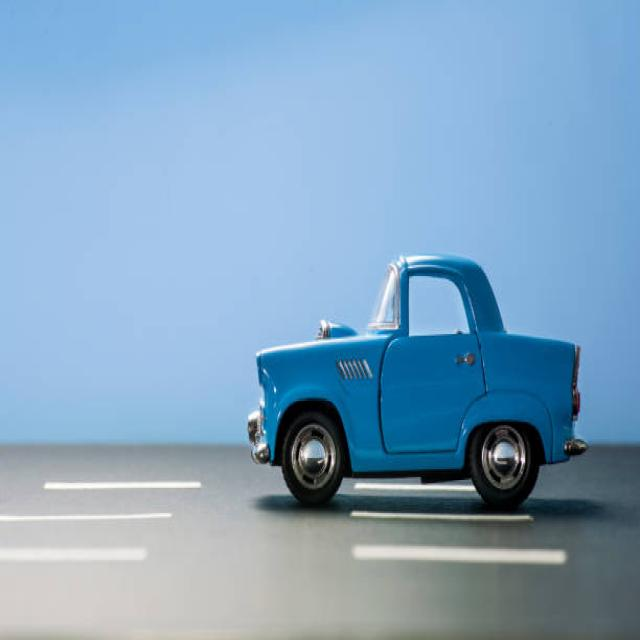Car: (247, 251, 588, 510)
